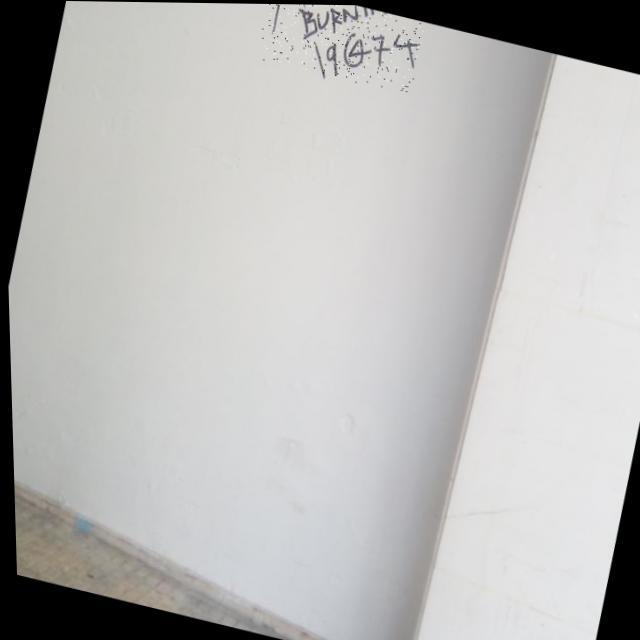-: (254, 3, 426, 94)
